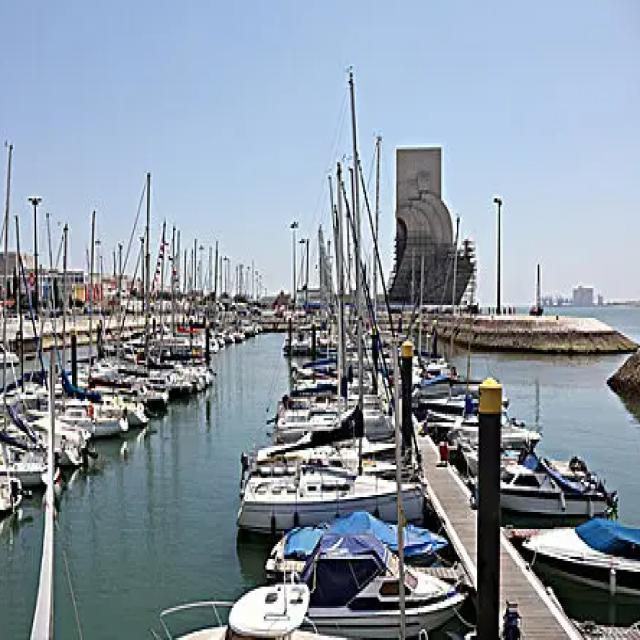houseboat: (146, 569, 443, 640), (271, 531, 462, 624), (233, 454, 414, 531), (503, 508, 640, 604), (476, 441, 611, 516), (443, 404, 533, 450)
